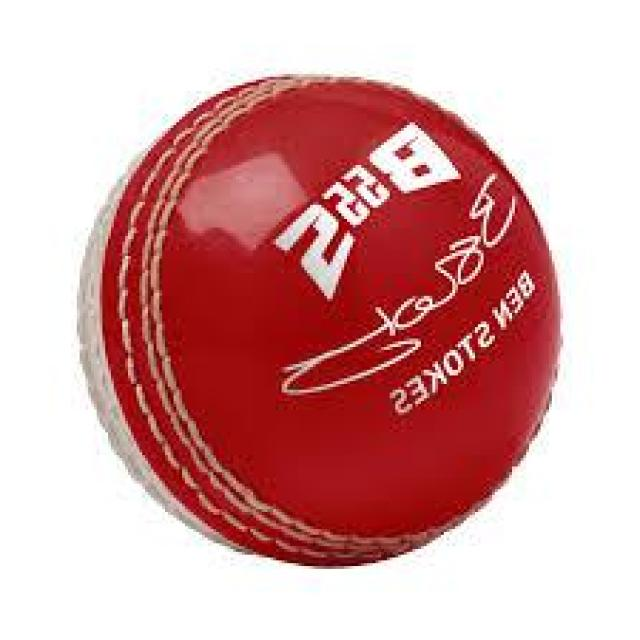ball: (74, 77, 563, 566)
